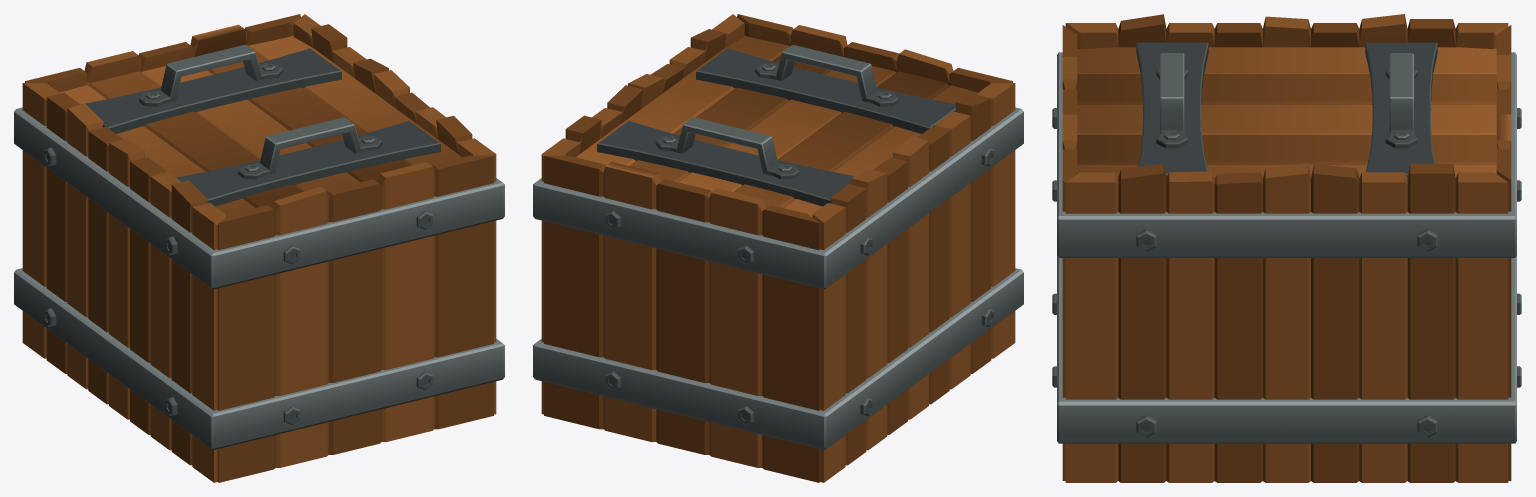
3 renders of one model, left to right at view 1: azimuth 30°, elevation 25°; view 2: azimuth 150°, elevation 25°; view 3: azimuth 270°, elevation 25°, orthographic. The views are drawn at different scales.
Parts seen in each view (by area): view 1: Box-3-1; view 2: Box-3-1; view 3: Box-3-1.
Boxes of the visible parts, x1,y1,x2,y2 form: Box-3-1: (14, 14, 504, 482); Box-3-1: (533, 14, 1023, 482); Box-3-1: (1052, 14, 1521, 482).
Size of the model in its own units: 148 by 132 by 171.
